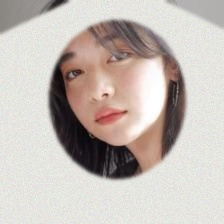Mukena: (5, 26, 224, 224)
